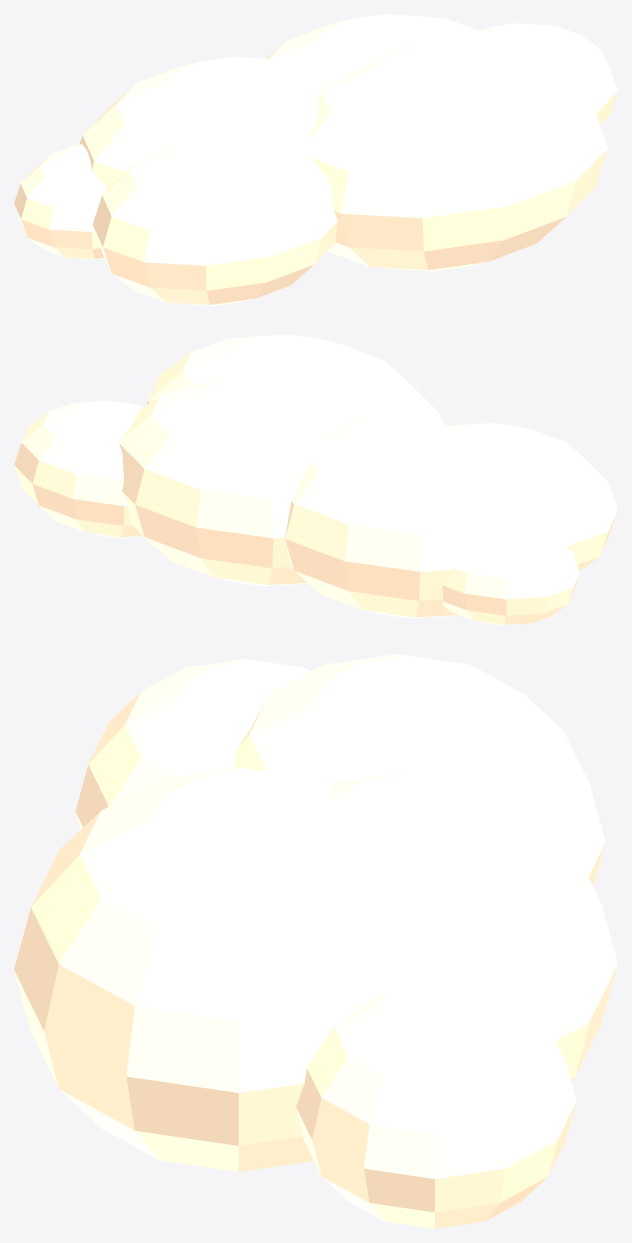
The model's file is cloud_warm_c.fbx.
3 views of the same model, one above another, from view 1: azimuth 30°, elevation 25°; view 2: azimuth 150°, elevation 25°; view 3: azimuth 270°, elevation 25° (orthographic). The views are drawn at different scales.
Parts seen in each view (by area): view 1: cloud_warm_c; view 2: cloud_warm_c; view 3: cloud_warm_c.
Part boxes in pixels (x1,y1,x2,y2): cloud_warm_c: (14, 14, 617, 305); cloud_warm_c: (14, 334, 617, 625); cloud_warm_c: (14, 654, 617, 1228).
Bounding box in the file's own units: 36.65 × 11.85 × 19.92.
